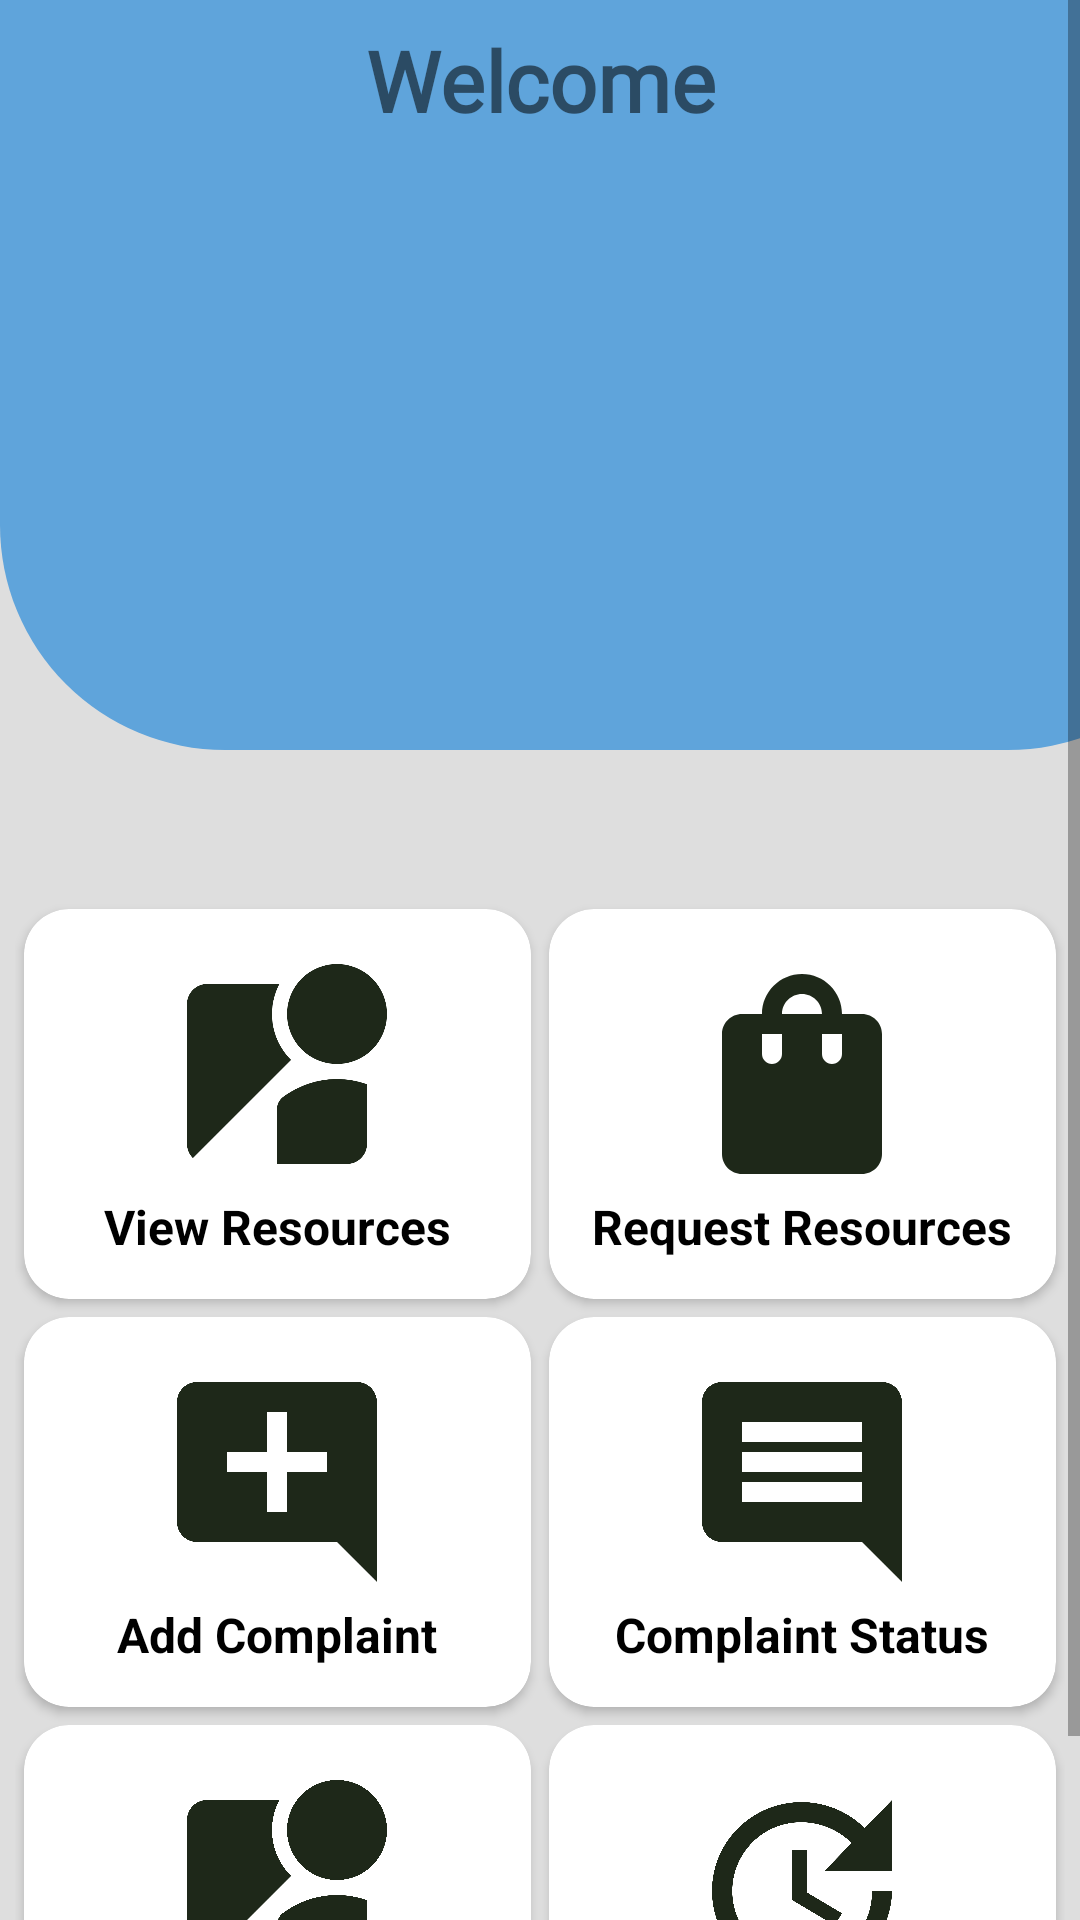

Icons on this 1080w x 1920h Android screen, each with the point to tap as point (x, y):
add comment: point (277, 1482)
